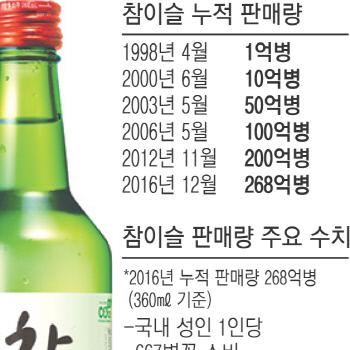soju: (1, 1, 113, 350)
